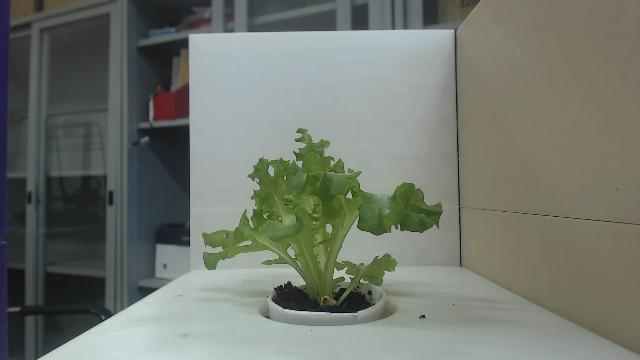Vegetative Stage: (201, 126, 445, 308)
